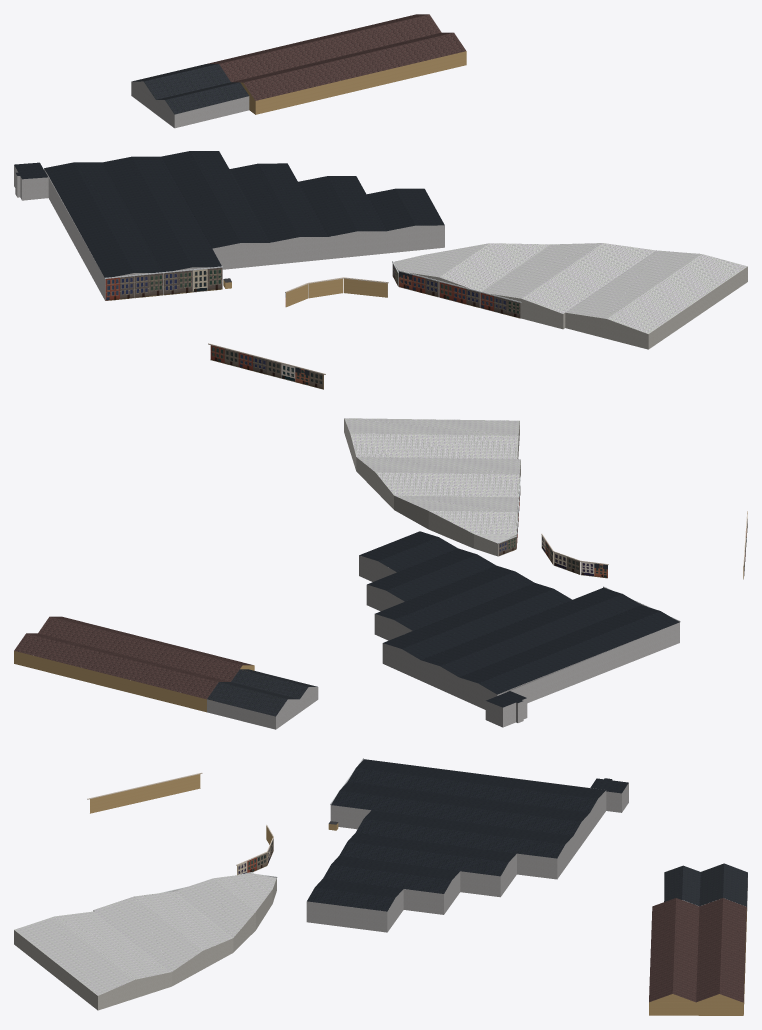
3 renders of one model, top to bottom at view 1: azimuth 30°, elevation 25°; view 2: azimuth 150°, elevation 25°; view 3: azimuth 270°, elevation 25°, orthographic. The views are drawn at different scales.
Visible parts, largest first — view 1: bldg_6004321752_roof, bldg_6004321768_roof, bldg_6006376204_roof, bldg_6004321752, bldg_6004321768, bldg_6006379107_roof, bldg_6006376204, bldg_6004321755_facade2, bldg_6006379107, bldg_6004321755_facade5, bldg_6004321768_facade3, bldg_6004321752_facade2 (+5 smaller); view 2: bldg_6004321752_roof, bldg_6004321768_roof, bldg_6006376204_roof, bldg_6004321752, bldg_6006379107_roof, bldg_6004321768, bldg_6006376204, bldg_6006379107; view 3: bldg_6004321752_roof, bldg_6004321768_roof, bldg_6006376204_roof, bldg_6004321752, bldg_6004321768, bldg_6006379107_roof, bldg_6004321755_facade2, bldg_6006376204.
Part boxes in pixels (bbox=[...]): bldg_6004321752_roof: bbox=[14, 151, 444, 277]; bldg_6004321768_roof: bbox=[393, 243, 747, 333]; bldg_6006376204_roof: bbox=[207, 14, 465, 100]; bldg_6004321752: bbox=[14, 163, 444, 300]; bldg_6004321768: bbox=[396, 266, 747, 349]; bldg_6006379107_roof: bbox=[132, 64, 248, 114]; bldg_6006376204: bbox=[240, 51, 466, 114]; bldg_6004321755_facade2: bbox=[208, 343, 325, 389]; bldg_6006379107: bbox=[131, 81, 249, 128]; bldg_6004321755_facade5: bbox=[343, 277, 388, 297]; bldg_6004321768_facade3: bbox=[479, 291, 521, 318]; bldg_6004321752_facade2: bbox=[134, 272, 163, 298]; bldg_6004321752_roof: bbox=[359, 531, 679, 707]; bldg_6004321768_roof: bbox=[344, 418, 520, 543]; bldg_6006376204_roof: bbox=[14, 616, 253, 699]; bldg_6004321752: bbox=[359, 555, 679, 727]; bldg_6006379107_roof: bbox=[207, 669, 317, 716]; bldg_6004321768: bbox=[344, 418, 520, 556]; bldg_6006376204: bbox=[14, 651, 254, 712]; bldg_6006379107: bbox=[207, 687, 318, 729]; bldg_6004321752_roof: bbox=[307, 759, 628, 911]; bldg_6004321768_roof: bbox=[14, 873, 276, 995]; bldg_6006376204_roof: bbox=[649, 898, 746, 1002]; bldg_6004321752: bbox=[306, 768, 628, 932]; bldg_6004321768: bbox=[14, 878, 276, 1010]; bldg_6006379107_roof: bbox=[664, 863, 747, 906]; bldg_6004321755_facade2: bbox=[87, 772, 202, 813]; bldg_6006376204: bbox=[649, 909, 746, 1015].
Size of the model in its own units: 237 by 11.04 by 311.
Materials: 15 (9 with a texture image).
